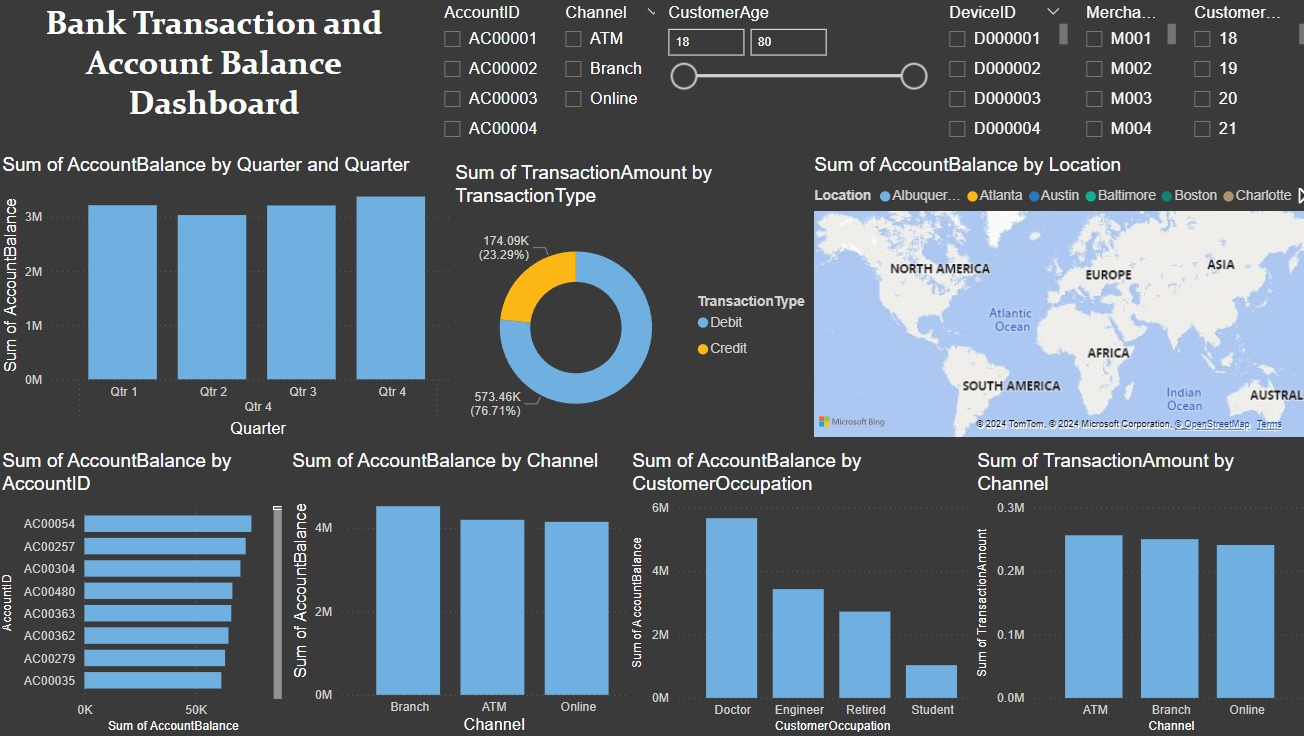

The page's visual inventory and layout, read from the dashboard file:
{"tool":"powerbi","page":{"name":"Page 1","canvas":[1280,720],"ordinal":0},"visuals":[{"type":"clusteredBarChart","fields":{"Category":["bank_transactions_data_2.AccountID"],"Y":["Sum(bank_transactions_data_2.AccountBalance)"]},"box":[0,439.6,282.1,280.1],"z":0},{"type":"clusteredBarChart","fields":{"Category":["bank_transactions_data_2.Channel"],"Y":["Sum(bank_transactions_data_2.AccountBalance)"]},"box":[282.1,439.6,354,280.1],"z":1000},{"type":"clusteredColumnChart","fields":{"Y":["Sum(bank_transactions_data_2.AccountBalance)"],"Category":["bank_transactions_data_2.CustomerOccupation"]},"box":[612.8,439.6,354,280.1],"z":2000},{"type":"clusteredColumnChart","fields":{"Y":["Sum(bank_transactions_data_2.TransactionAmount)"],"Category":["bank_transactions_data_2.Channel"]},"box":[948.3,439.6,331.7,280.1],"z":3000},{"type":"pieChart","fields":{"Category":["bank_transactions_data_2.PreviousTransactionDate.Variation.Date Hierarchy.Quarter","bank_transactions_data_2.TransactionDate.Variation.Date Hierarchy.Quarter"],"Y":["Sum(bank_transactions_data_2.AccountBalance)"]},"box":[0,151.7,459.1,280.1],"z":4000},{"type":"donutChart","fields":{"Category":["bank_transactions_data_2.TransactionType"],"Y":["Sum(bank_transactions_data_2.TransactionAmount)"]},"box":[440.6,159.5,357.9,280.1],"z":5000},{"type":"map","fields":{"Series":["bank_transactions_data_2.Location"],"Size":["Sum(bank_transactions_data_2.AccountBalance)"]},"box":[789.8,151.7,490.2,280.1],"z":6000},{"type":"slicer","fields":{"Values":["bank_transactions_data_2.AccountID"]},"box":[422.1,0,155.6,151.7],"z":7000},{"type":"slicer","fields":{"Values":["bank_transactions_data_2.Channel"]},"box":[539.8,0,117.7,159.5],"z":8000},{"type":"slicer","fields":{"Values":["bank_transactions_data_2.CustomerAge"]},"box":[640,0,273.3,151.7],"z":9000},{"type":"slicer","fields":{"Values":["bank_transactions_data_2.DeviceID"]},"box":[913.3,0,133.3,151.7],"z":10000},{"type":"slicer","fields":{"Values":["bank_transactions_data_2.MerchantID"]},"box":[1046.6,0,105,151.7],"z":11000},{"type":"slicer","fields":{"Values":["bank_transactions_data_2.CustomerAge"]},"box":[1151.6,0,128.4,151.7],"z":12000},{"type":"textbox","box":[0,0,422,152],"z":13000}]}

Visuals, with their boxes in screenshot pixels (x1, y1, x2, y2), scaled from the page's 1280x720 canvas onto the 1304x736 screenshot:
clusteredBarChart - bank_transactions_data_2.AccountID x Sum(bank_transactions_data_2.AccountBalance): Rect(0, 449, 287, 735)
clusteredBarChart - bank_transactions_data_2.Channel x Sum(bank_transactions_data_2.AccountBalance): Rect(287, 449, 648, 735)
clusteredColumnChart - Sum(bank_transactions_data_2.AccountBalance) x bank_transactions_data_2.CustomerOccupation: Rect(624, 449, 985, 735)
clusteredColumnChart - Sum(bank_transactions_data_2.TransactionAmount) x bank_transactions_data_2.Channel: Rect(966, 449, 1303, 735)
pieChart - bank_transactions_data_2.PreviousTransactionDate.Variation.Date Hierarchy.Quarter x bank_transactions_data_2.TransactionDate.Variation.Date Hierarchy.Quarter: Rect(0, 155, 468, 441)
donutChart - bank_transactions_data_2.TransactionType x Sum(bank_transactions_data_2.TransactionAmount): Rect(449, 163, 813, 449)
map - bank_transactions_data_2.Location x Sum(bank_transactions_data_2.AccountBalance): Rect(805, 155, 1303, 441)
slicer - bank_transactions_data_2.AccountID: Rect(430, 0, 589, 155)
slicer - bank_transactions_data_2.Channel: Rect(550, 0, 670, 163)
slicer - bank_transactions_data_2.CustomerAge: Rect(652, 0, 930, 155)
slicer - bank_transactions_data_2.DeviceID: Rect(930, 0, 1066, 155)
slicer - bank_transactions_data_2.MerchantID: Rect(1066, 0, 1173, 155)
slicer - bank_transactions_data_2.CustomerAge: Rect(1173, 0, 1303, 155)
textbox: Rect(0, 0, 430, 155)
